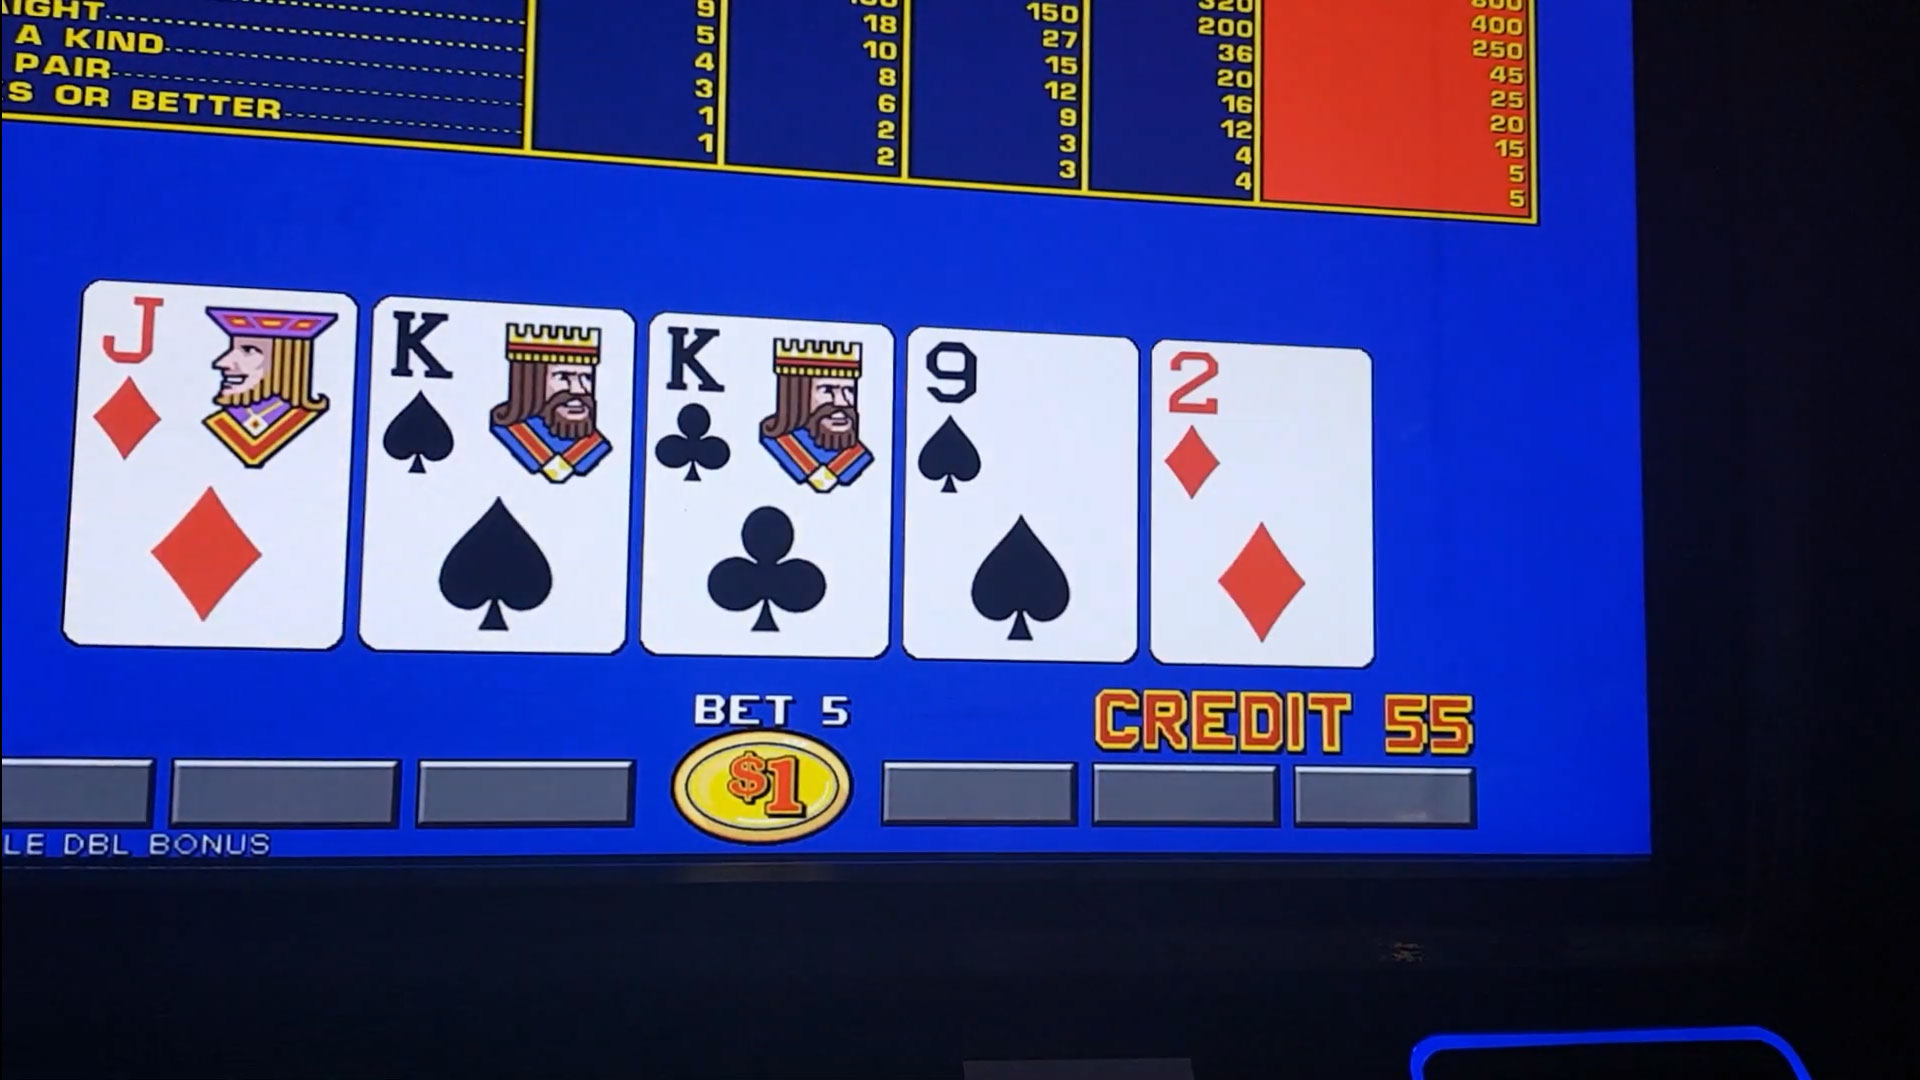CK: (658, 330, 886, 501)
D2: (1160, 353, 1366, 517)
DJ: (86, 293, 348, 477)
S9: (906, 343, 1131, 509)
SK: (378, 314, 626, 488)
